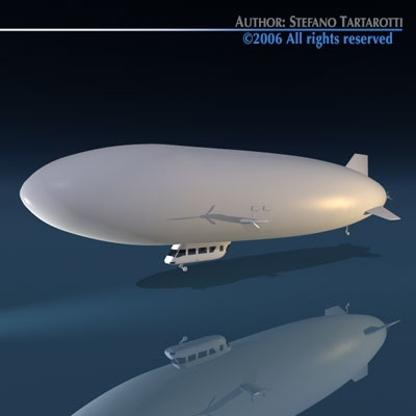Airship: (21, 143, 406, 269)
